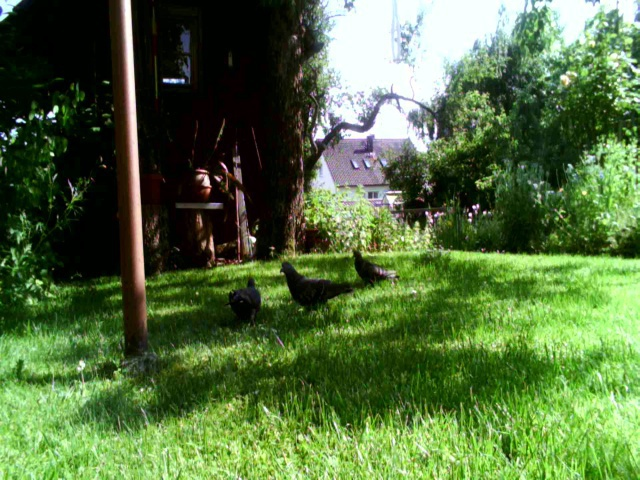Pigeon: (275, 258, 355, 319), (350, 244, 405, 288), (225, 275, 265, 322)
